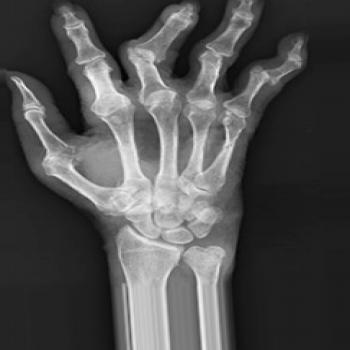Fracture: (122, 42, 171, 66), (252, 66, 281, 86)
